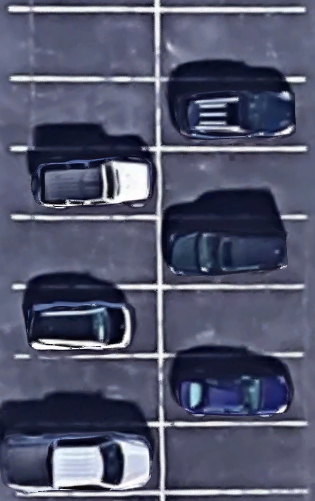Occupied: (11, 148, 159, 218), (17, 424, 162, 495), (12, 288, 159, 358), (160, 217, 304, 288), (158, 80, 304, 149), (160, 355, 303, 424)
Vacant: (9, 6, 158, 80), (158, 7, 304, 81), (11, 77, 159, 147), (12, 218, 159, 287), (158, 149, 304, 218), (14, 356, 161, 424), (162, 425, 307, 492), (160, 288, 303, 355)
